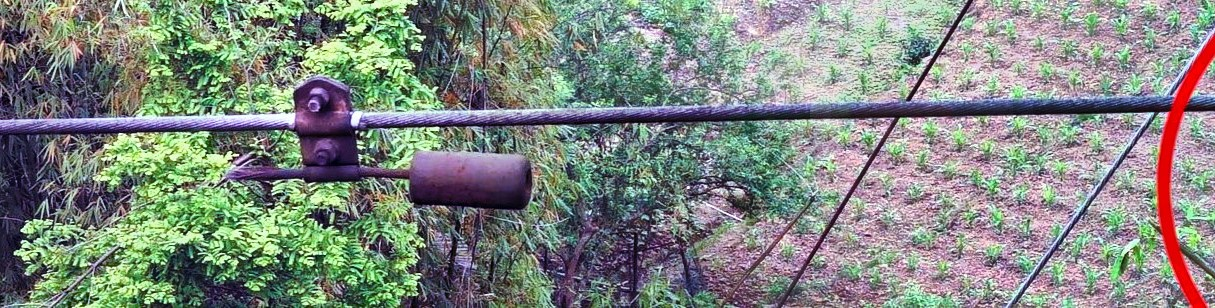Damage of shockproof hammer: (220, 69, 546, 218)
